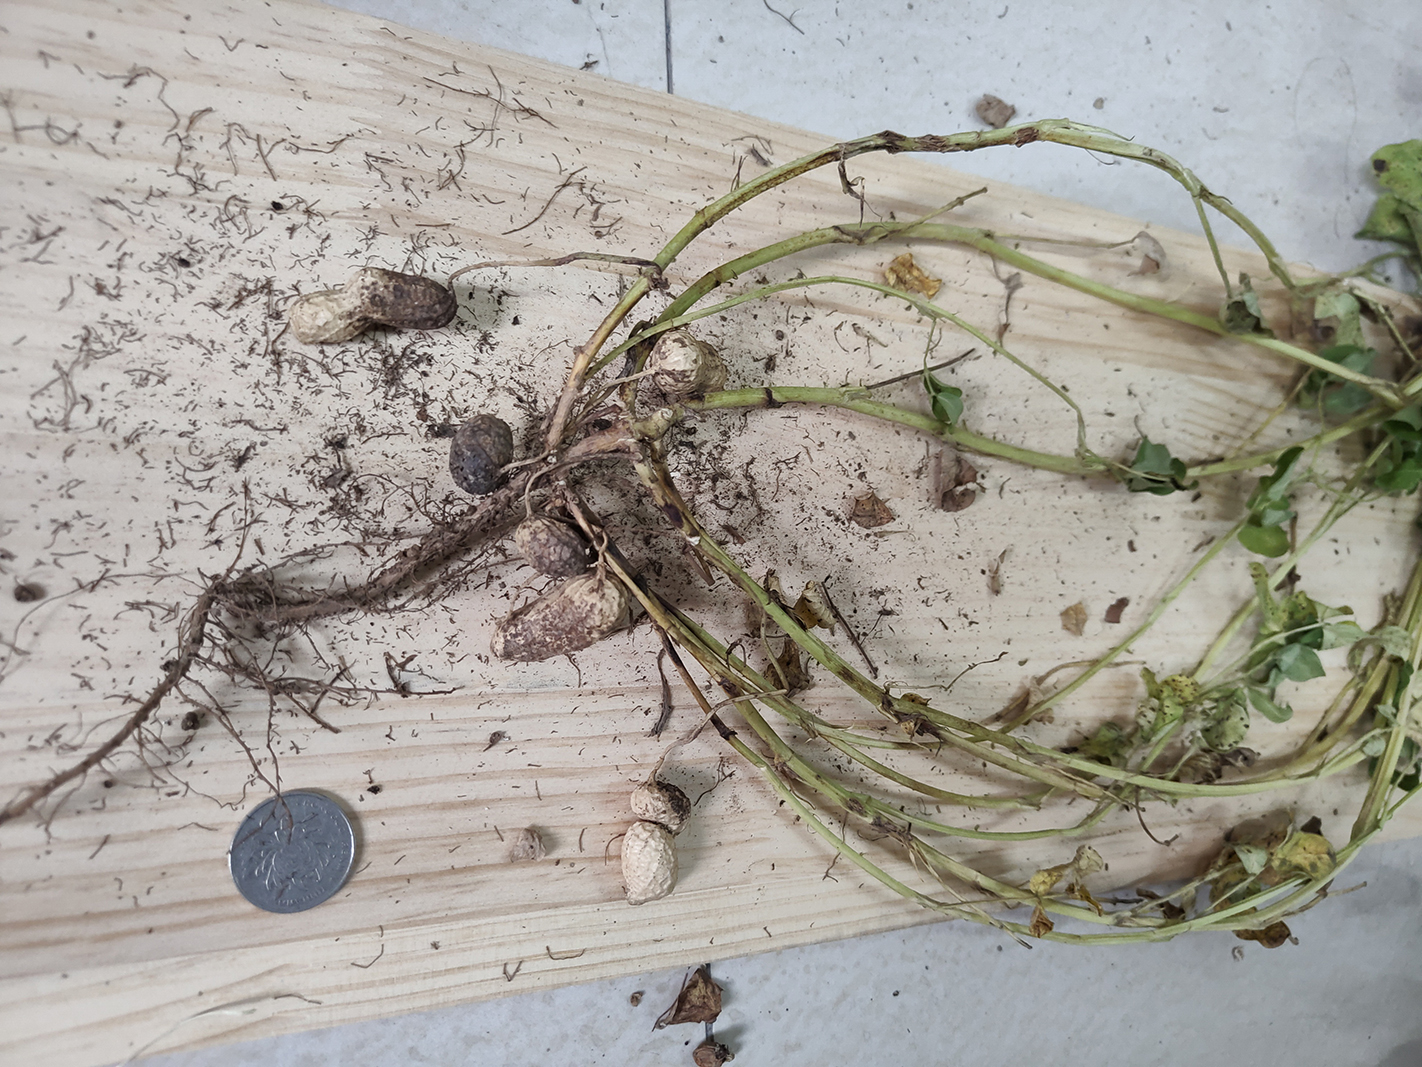h: (619, 782, 693, 904), (652, 330, 727, 392)
l: (289, 266, 461, 342), (492, 577, 625, 665), (449, 416, 513, 493), (515, 517, 587, 576)
